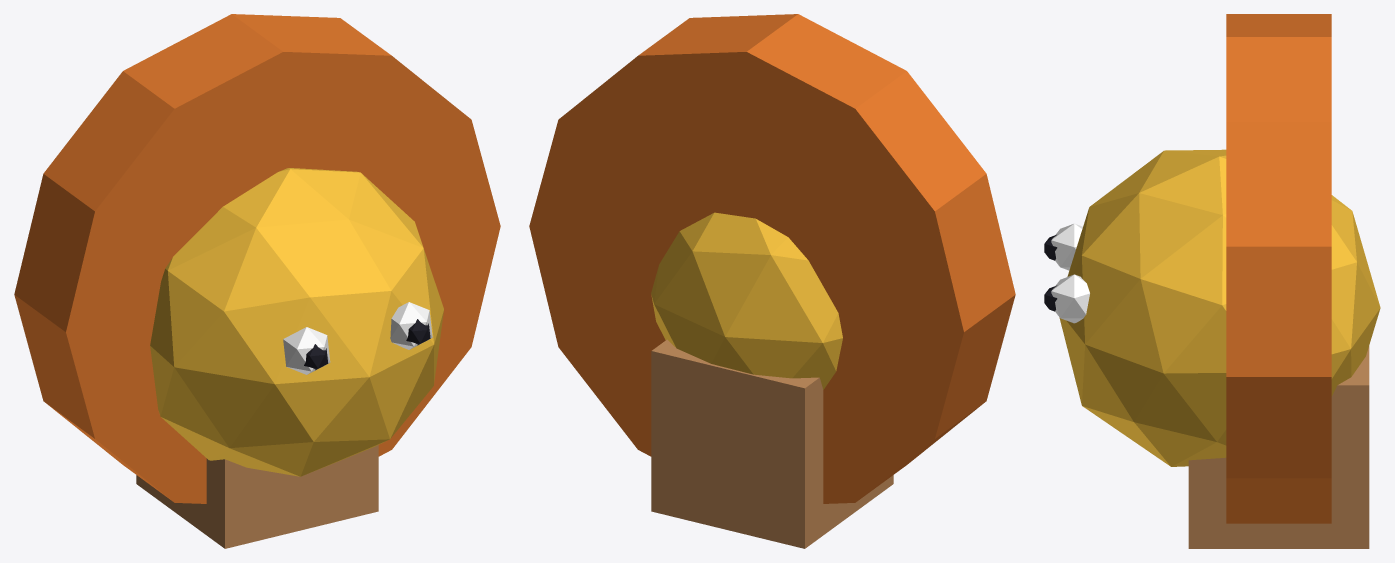
The model's file is LionHead.fbx.
3 renders of one model, left to right at view 1: azimuth 30°, elevation 25°; view 2: azimuth 150°, elevation 25°; view 3: azimuth 270°, elevation 25°, orthographic.
Visible parts, largest first — view 1: LionHead; view 2: LionHead; view 3: LionHead.
Boxes of the visible parts, left/top/right/bottom form: LionHead: left=14, top=14, right=500, bottom=548; LionHead: left=529, top=14, right=1015, bottom=548; LionHead: left=1044, top=14, right=1380, bottom=548.
Bounding box in the file's own units: 6.8 × 6.95 × 4.47.
1 material, 1 textured.
